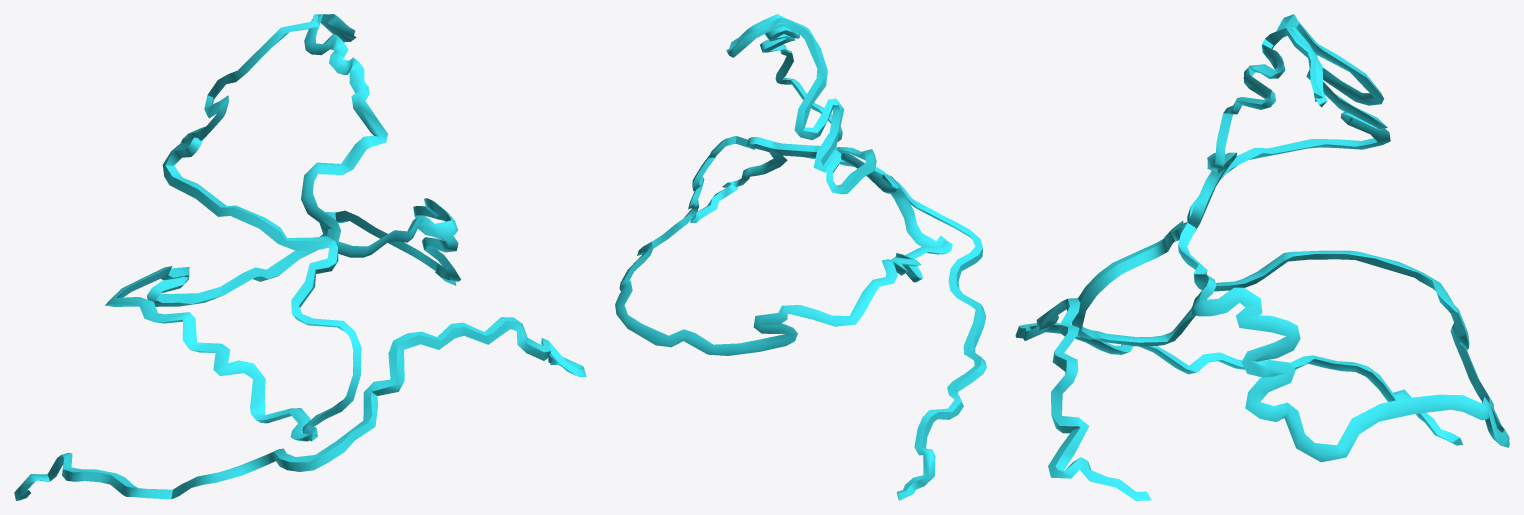
File: wege_collider.fbx
3 views of the same model, side by side, from view 1: azimuth 30°, elevation 25°; view 2: azimuth 150°, elevation 25°; view 3: azimuth 270°, elevation 25° (orthographic). The views are drawn at different scales.
Visible parts, largest first — view 1: Mittel_Coll, Mässig_Coll, Anspruchsvoll_Coll; view 2: Mittel_Coll, Anspruchsvoll_Coll, Mässig_Coll; view 3: Mittel_Coll, Mässig_Coll, Anspruchsvoll_Coll.
Part boxes in pixels (left/top/right/bottom): Mittel_Coll: left=105, top=14, right=460, bottom=441; Mässig_Coll: left=14, top=317, right=586, bottom=500; Anspruchsvoll_Coll: left=162, top=14, right=361, bottom=441; Mittel_Coll: left=615, top=14, right=952, bottom=355; Anspruchsvoll_Coll: left=726, top=17, right=945, bottom=247; Mässig_Coll: left=690, top=153, right=986, bottom=500; Mittel_Coll: left=1092, top=28, right=1509, bottom=462; Mässig_Coll: left=1015, top=298, right=1462, bottom=500; Anspruchsvoll_Coll: left=1071, top=14, right=1390, bottom=339.
Size of the model in its own units: 8.57 by 9.38 by 7.75.
